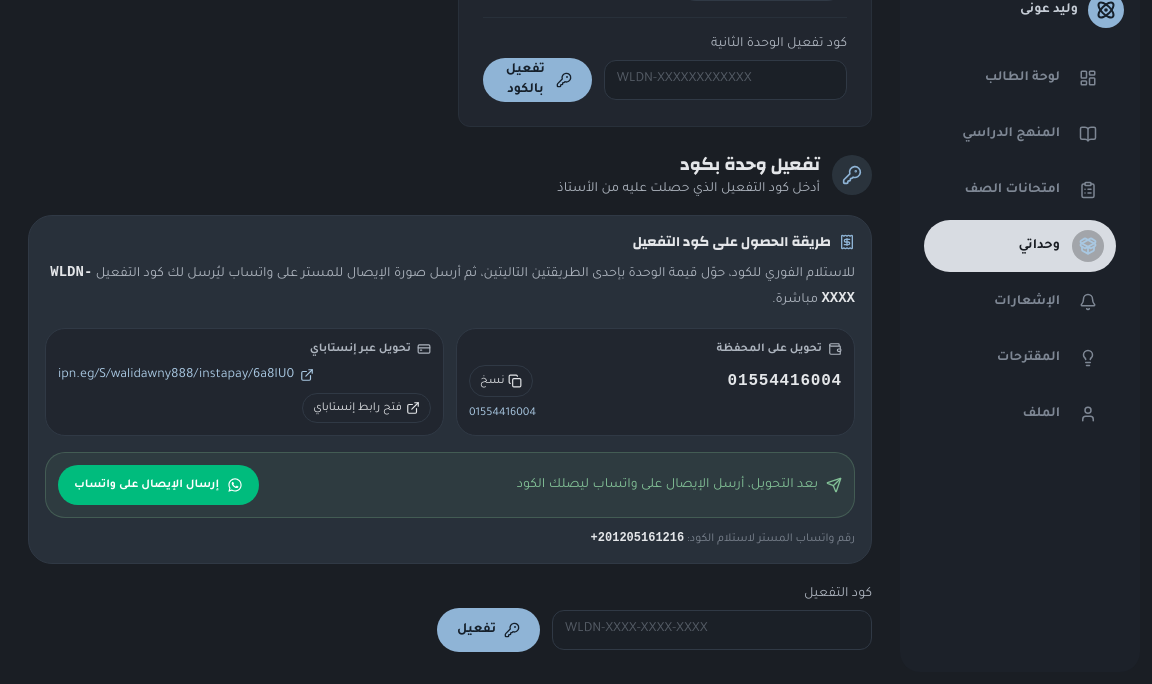
Test: UnitsPage › rejects redeeming a code for a unit outside the student grade
(page scrolled)
Type "WLDN-ABCD-EFGH-JKLM" into the field labelled "كود التفعيل" at coordinates (712, 630), box x1=552 y1=610 x2=872 y2=650
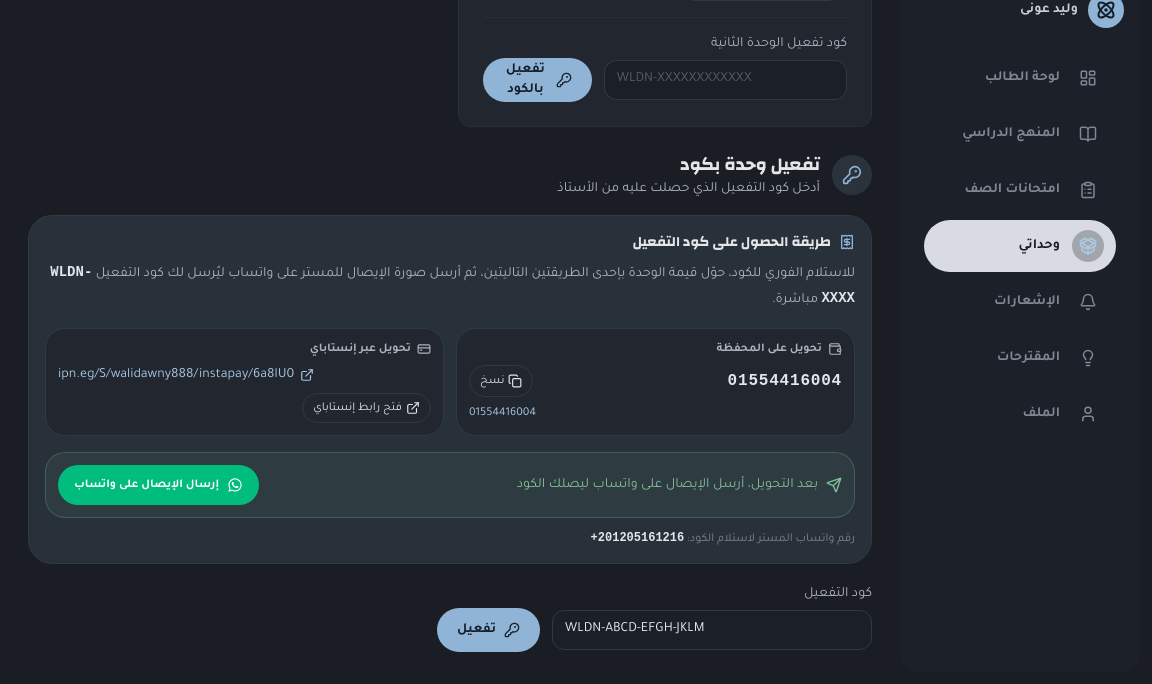
Click the button "تفعيل" at coordinates (488, 630), box x1=437 y1=608 x2=540 y2=652
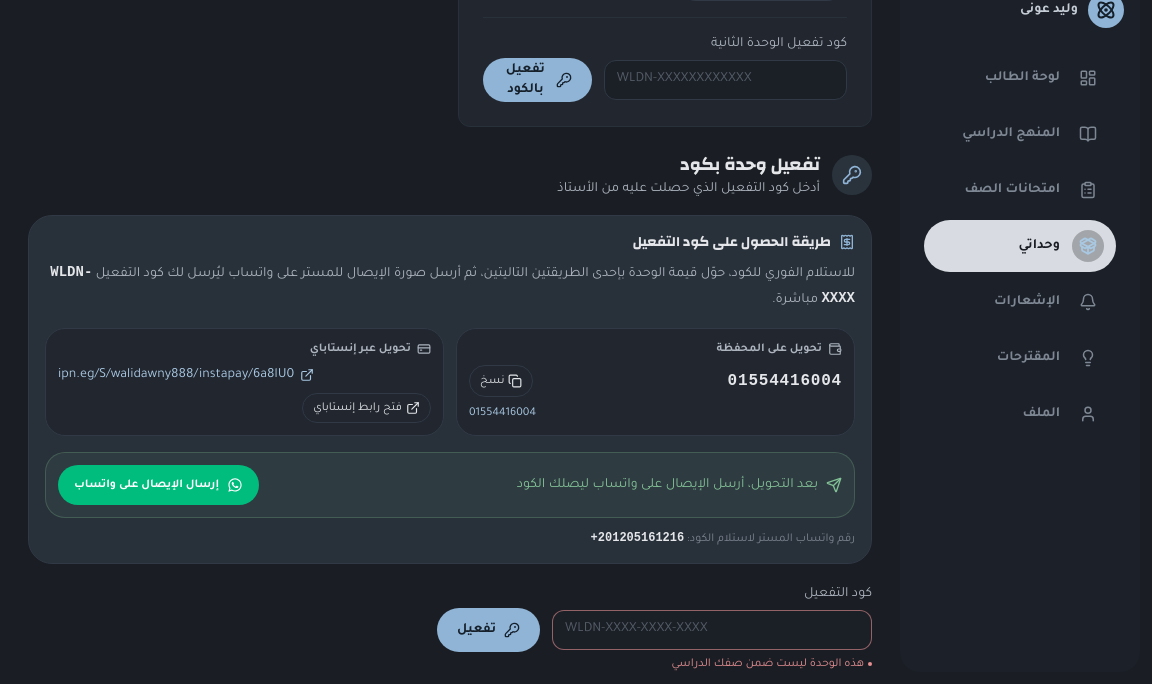
Check: the text "هذه الوحدة ليست ضمن صفك الدراسي" is shown, box x1=672 y1=658 x2=872 y2=670
